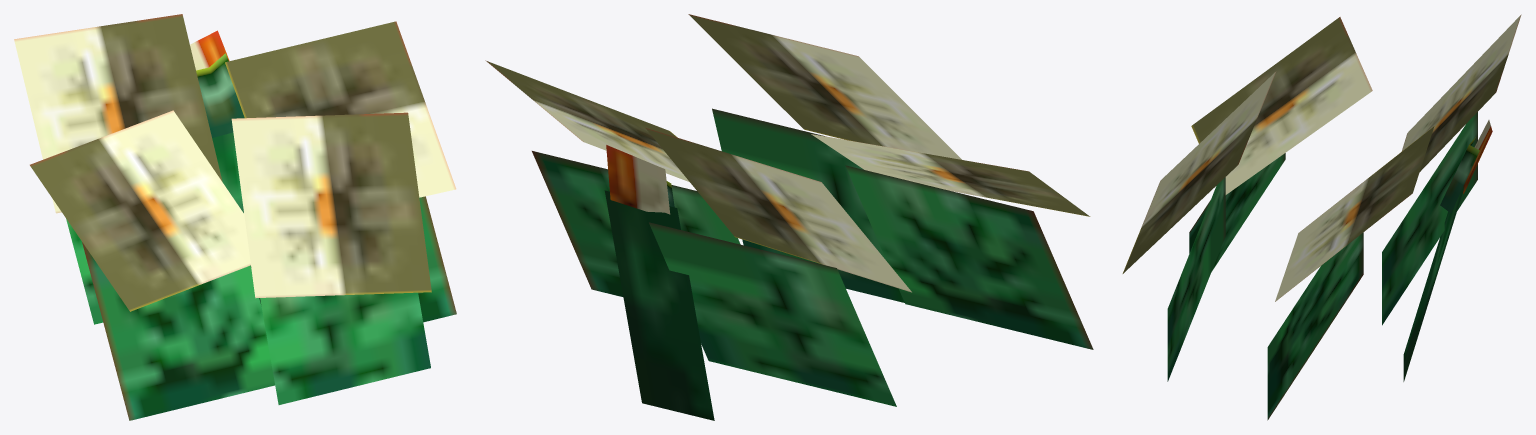
File: flw_cosmos_wt.dae
3 renders of one model, left to right at view 1: azimuth 30°, elevation 25°; view 2: azimuth 150°, elevation 25°; view 3: azimuth 270°, elevation 25°, orthographic. The views are drawn at different scales.
Parts seen in each view (by area): view 1: flw_cosmos_wt; view 2: flw_cosmos_wt; view 3: flw_cosmos_wt.
Boxes of the visible parts, x1,y1,x2,y2 form: flw_cosmos_wt: [14, 14, 456, 420]; flw_cosmos_wt: [485, 14, 1093, 420]; flw_cosmos_wt: [1122, 14, 1521, 420].
Bounding box in the file's own units: 32.21 × 20.79 × 27.9.
Materials: 1 (1 with a texture image).
